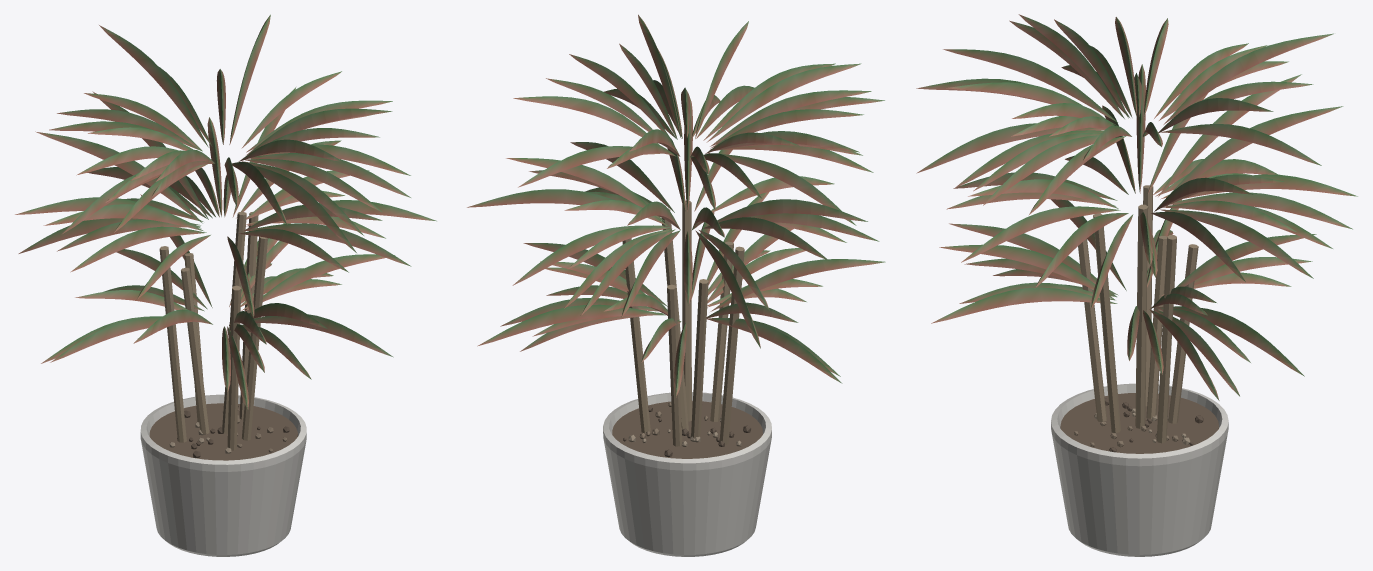
The model's file is dracaena-marginata_LUMA_3D.glb.
3 renders of one model, left to right at view 1: azimuth 30°, elevation 25°; view 2: azimuth 150°, elevation 25°; view 3: azimuth 270°, elevation 25°, orthographic. The views are drawn at different scales.
Visible parts, largest first — view 1: world; view 2: world; view 3: world.
Boxes of the visible parts, x1=… form: world: x1=15, y1=14, x2=436, y2=556; world: x1=467, y1=14, x2=885, y2=556; world: x1=916, y1=14, x2=1357, y2=556.
Bounding box in the file's own units: 2.03 × 2.49 × 2.09.
